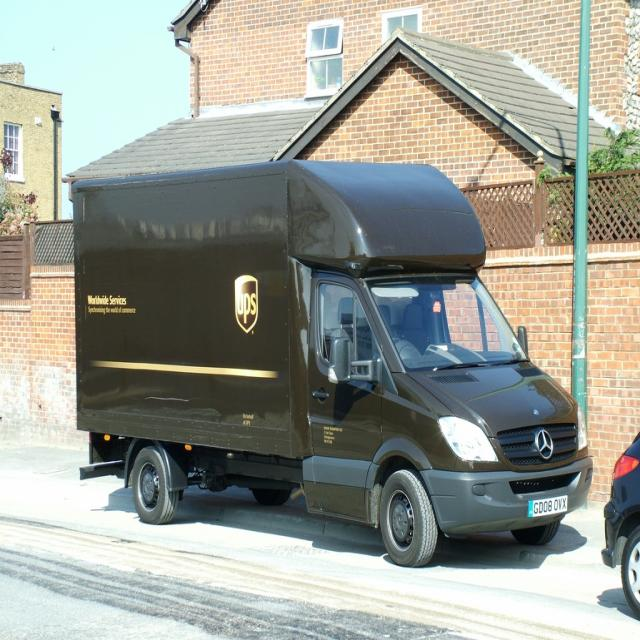ups: (235, 274, 259, 334)
